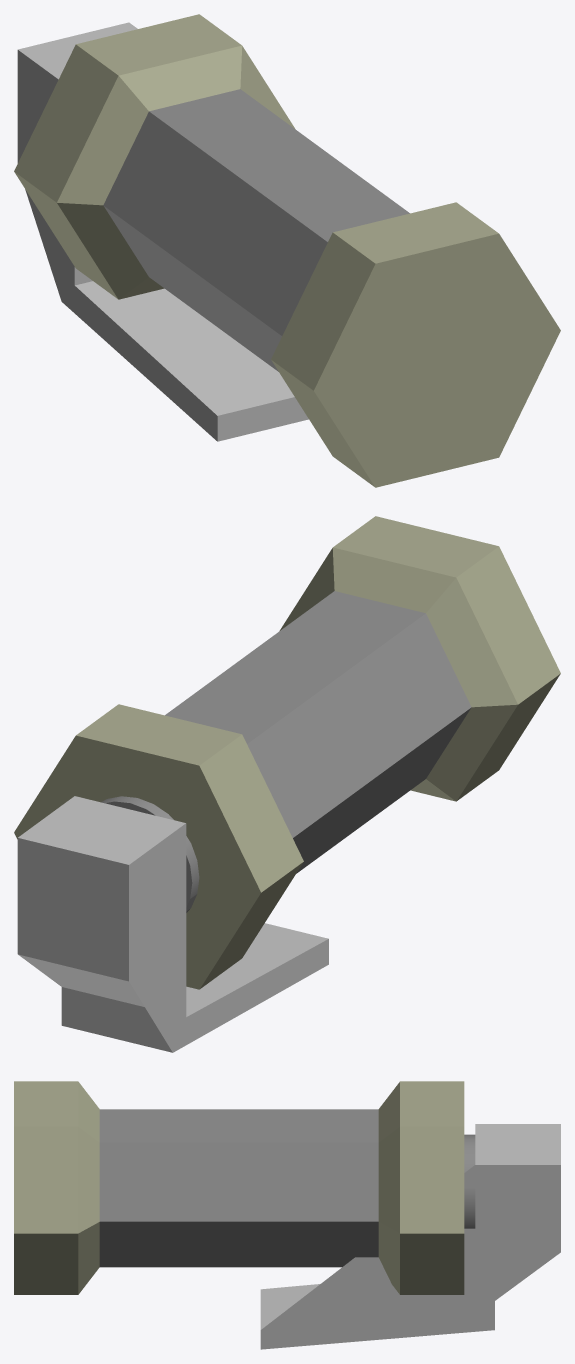
Rendered from grenadeflash.fbx.
The picture shows the model from 3 angles, top to bottom: view 1: azimuth 30°, elevation 25°; view 2: azimuth 150°, elevation 25°; view 3: azimuth 270°, elevation 25°; orthographic projection. The views are drawn at different scales.
Visible parts, largest first — view 1: imagetostl_mesh0, imagetostl_mesh12, imagetostl_mesh13, imagetostl_mesh94, imagetostl_mesh88, imagetostl_mesh85, imagetostl_mesh22, imagetostl_mesh11, imagetostl_mesh19, imagetostl_mesh5, imagetostl_mesh21, imagetostl_mesh41 (+6 smaller); view 2: imagetostl_mesh12, imagetostl_mesh92, imagetostl_mesh13, imagetostl_mesh88, imagetostl_mesh22, imagetostl_mesh85, imagetostl_mesh23, imagetostl_mesh11, imagetostl_mesh84, imagetostl_mesh5, imagetostl_mesh21, imagetostl_mesh83 (+9 smaller); view 3: imagetostl_mesh86, imagetostl_mesh14, imagetostl_mesh15, imagetostl_mesh13, imagetostl_mesh6, imagetostl_mesh39, imagetostl_mesh1, imagetostl_mesh44, imagetostl_mesh92, imagetostl_mesh5, imagetostl_mesh21, imagetostl_mesh7 (+6 smaller).
Boxes of the visible parts, <box> form: imagetostl_mesh0: <box>314,233,560,487</box>; imagetostl_mesh12: <box>103,111,327,335</box>; imagetostl_mesh13: <box>149,89,409,241</box>; imagetostl_mesh94: <box>75,281,294,415</box>; imagetostl_mesh88: <box>17,50,217,441</box>; imagetostl_mesh85: <box>271,232,375,390</box>; imagetostl_mesh22: <box>14,44,118,202</box>; imagetostl_mesh11: <box>104,206,281,371</box>; imagetostl_mesh19: <box>57,76,148,205</box>; imagetostl_mesh5: <box>333,202,498,263</box>; imagetostl_mesh21: <box>76,14,241,75</box>; imagetostl_mesh41: <box>119,45,242,111</box>; imagetostl_mesh12: <box>247,613,471,837</box>; imagetostl_mesh92: <box>17,796,185,981</box>; imagetostl_mesh13: <box>165,591,425,743</box>; imagetostl_mesh88: <box>129,823,328,1052</box>; imagetostl_mesh22: <box>199,734,303,892</box>; imagetostl_mesh85: <box>456,546,560,704</box>; imagetostl_mesh23: <box>199,766,260,989</box>; imagetostl_mesh11: <box>293,707,471,873</box>; imagetostl_mesh84: <box>426,578,517,707</box>; imagetostl_mesh5: <box>333,516,498,577</box>; imagetostl_mesh21: <box>76,704,241,765</box>; imagetostl_mesh83: <box>332,547,455,613</box>; imagetostl_mesh86: <box>260,1165,560,1349</box>; imagetostl_mesh14: <box>99,1142,378,1221</box>; imagetostl_mesh15: <box>99,1221,378,1267</box>; imagetostl_mesh13: <box>99,1109,378,1142</box>; imagetostl_mesh6: <box>14,1126,78,1233</box>; imagetostl_mesh39: <box>400,1126,464,1233</box>; imagetostl_mesh1: <box>14,1233,78,1294</box>; imagetostl_mesh44: <box>400,1233,464,1294</box>; imagetostl_mesh92: <box>475,1124,560,1164</box>; imagetostl_mesh5: <box>14,1081,78,1126</box>; imagetostl_mesh21: <box>400,1081,464,1126</box>; imagetostl_mesh7: <box>78,1127,99,1233</box>.
Bounding box in the file's own units: 1.2 × 1.39 × 3.06.
